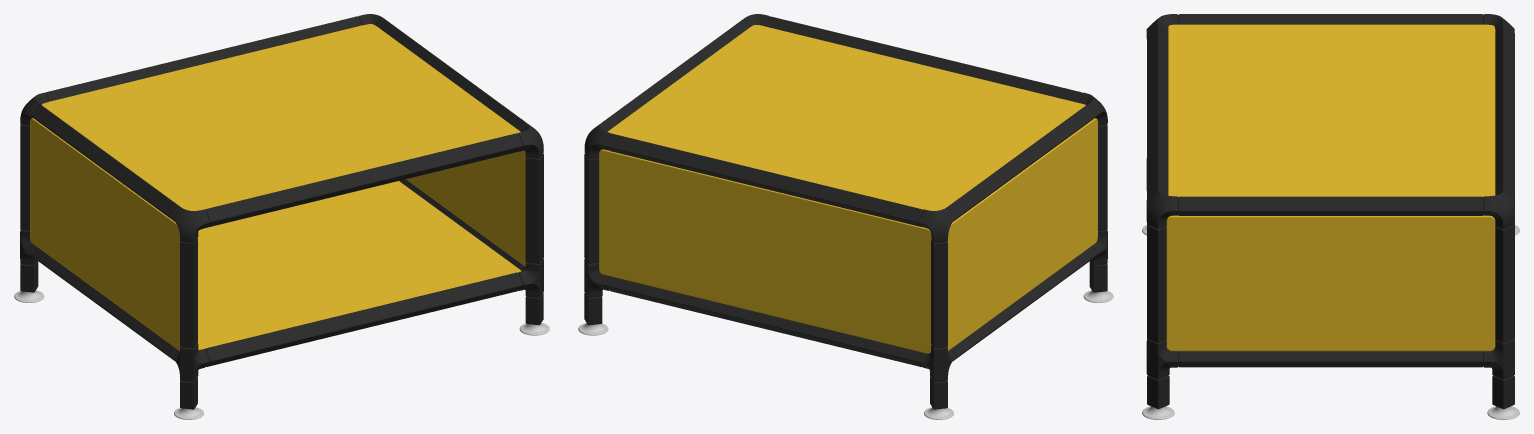
3 views of the same model, side by side, from view 1: azimuth 30°, elevation 25°; view 2: azimuth 150°, elevation 25°; view 3: azimuth 270°, elevation 25° (orthographic). The views are drawn at different scales.
Parts seen in each view (by area): view 1: 479x374x154; view 2: 479x374x154; view 3: 479x374x154.
Part boxes in pixels (x1,y1,x2,y2): 479x374x154: (14, 14, 549, 419); 479x374x154: (578, 14, 1113, 419); 479x374x154: (1142, 14, 1519, 419).
Size of the model in its own units: 0.5689 by 0.2933 by 0.4632.
